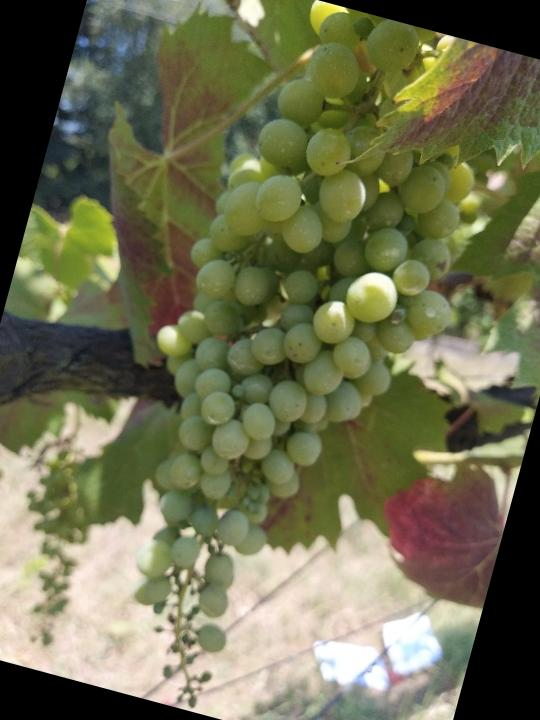grape: (65, 0, 522, 720)
